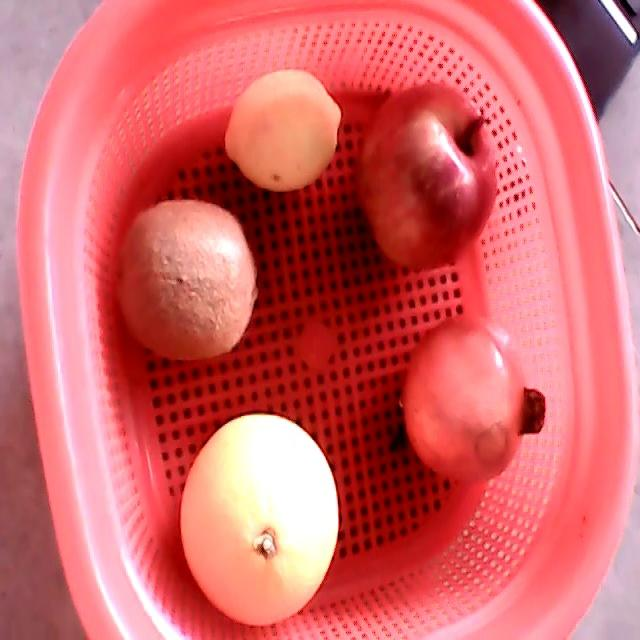apple: (354, 81, 498, 276)
kiwi: (115, 198, 257, 361)
lemon: (224, 69, 342, 193)
orange: (180, 414, 338, 629)
pomegranate: (400, 312, 546, 487)
